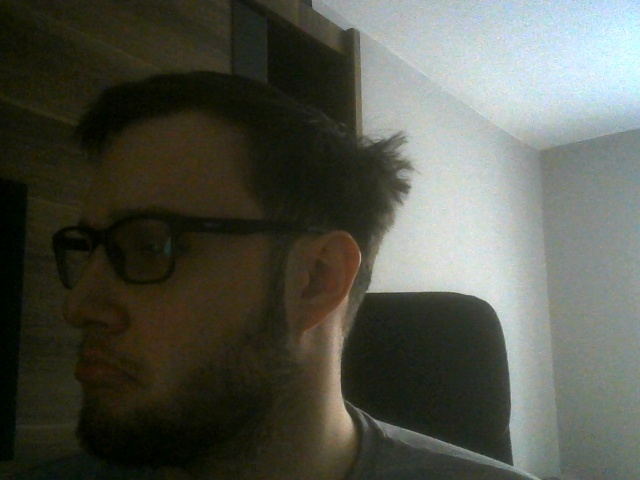neutral: (54, 70, 373, 464)
